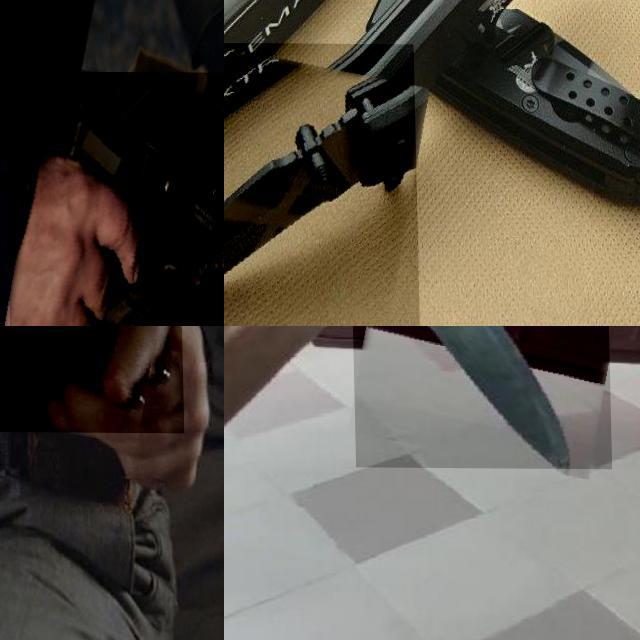-: (224, 42, 418, 326), (350, 326, 610, 468)
gun-knife-thesis - v11 Yolov5 augmented: (3, 70, 224, 326), (0, 326, 182, 502)
